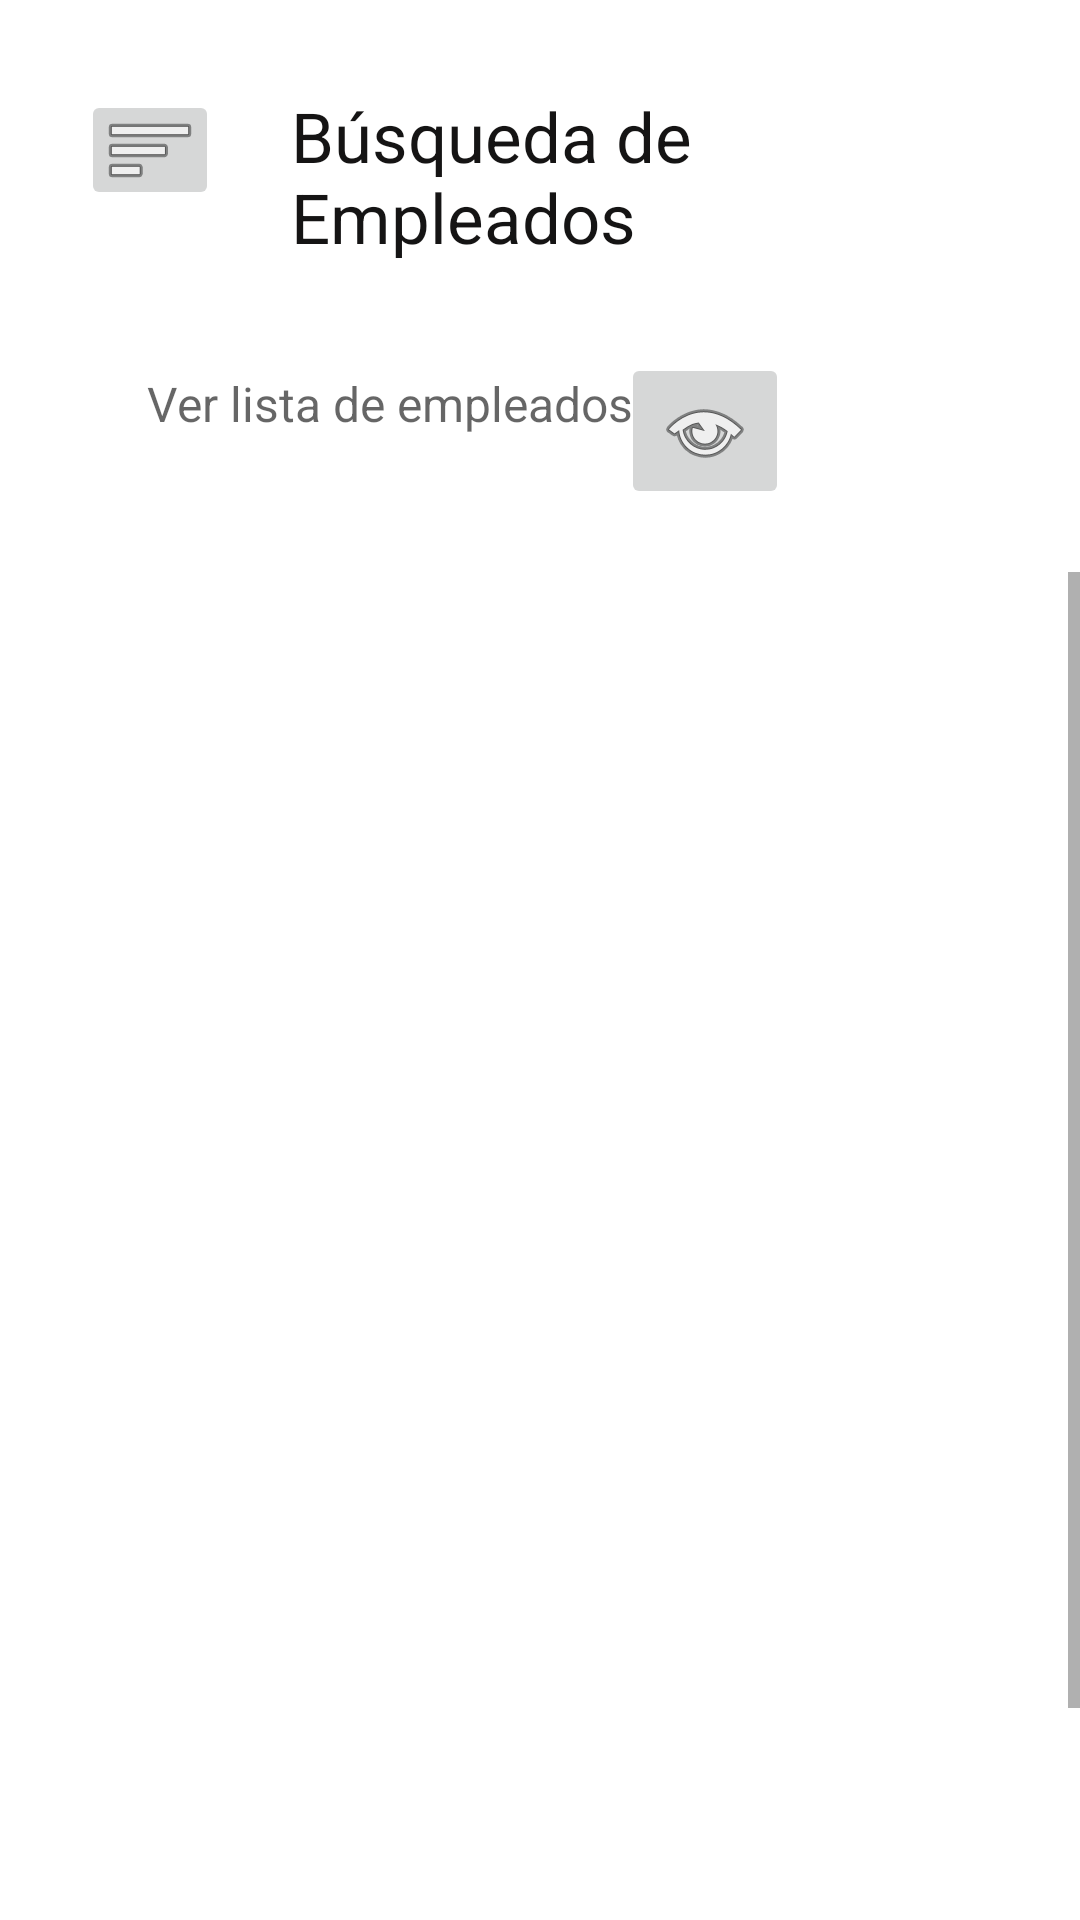

Named icons in this screenshot (1080x1920) and their centers, point (x, y):
sort by size: point (150, 150)
view: point (705, 431)
